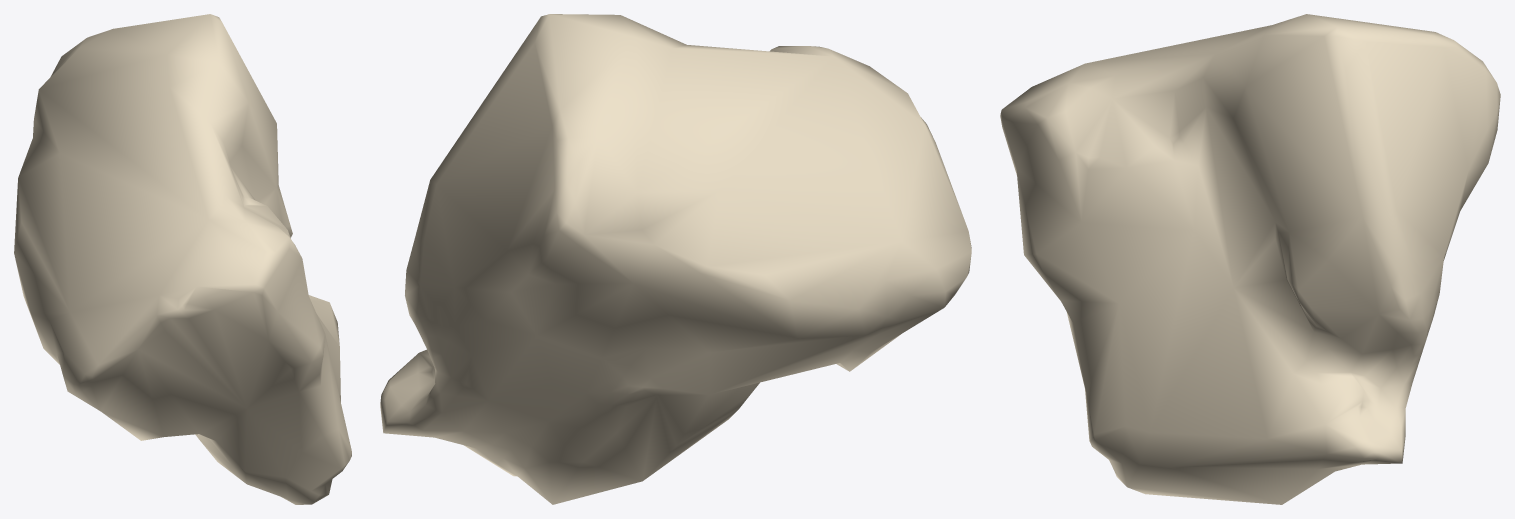
File: lateral-cuneiform-bone-r.glb
3 views of the same model, side by side, from view 1: azimuth 30°, elevation 25°; view 2: azimuth 150°, elevation 25°; view 3: azimuth 270°, elevation 25° (orthographic). The views are drawn at different scales.
Parts seen in each view (by area): view 1: Lateral cuneiform bone.r; view 2: Lateral cuneiform bone.r; view 3: Lateral cuneiform bone.r.
Boxes of the visible parts, box(x1,y1,x2,y2) form: Lateral cuneiform bone.r: box(14, 14, 351, 504); Lateral cuneiform bone.r: box(380, 14, 971, 504); Lateral cuneiform bone.r: box(1000, 14, 1500, 504).
Size of the model in its own units: 0.0242 by 0.0269 by 0.0265.
